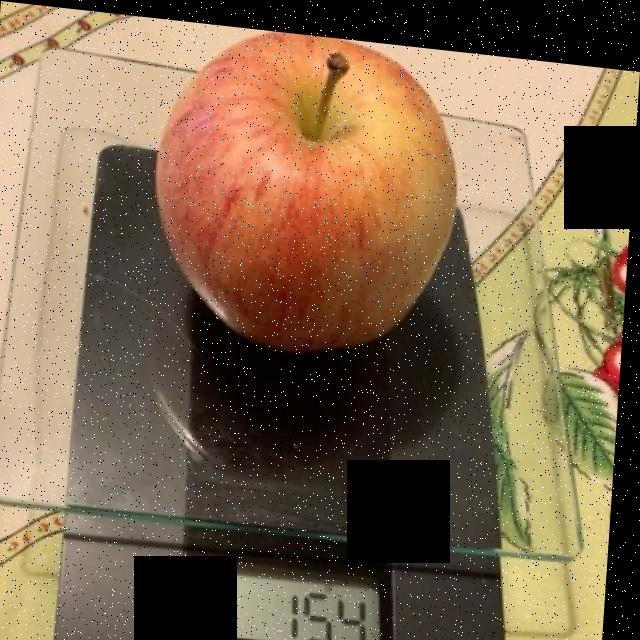apple: (159, 32, 453, 338)
